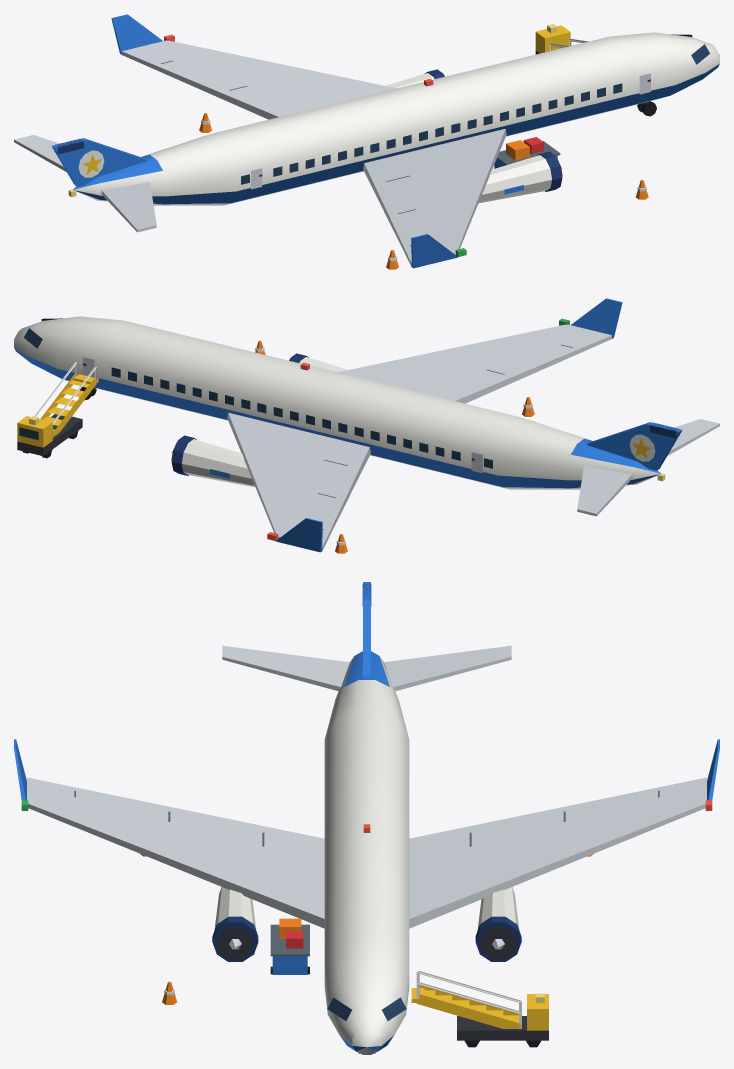
The model's file is plane_parked.glb.
The picture shows the model from 3 angles, top to bottom: view 1: azimuth 30°, elevation 25°; view 2: azimuth 150°, elevation 25°; view 3: azimuth 270°, elevation 25°; orthographic projection. The views are drawn at different scales.
Parts seen in each view (by area): view 1: Body; view 2: Body; view 3: Body.
Boxes of the visible parts, x1,y1,x2,y2 form: Body: (14,14,719,269); Body: (14,298,719,553); Body: (14,582,719,1054).
Bounding box in the file's own units: 4.12 × 0.66 × 3.22.
